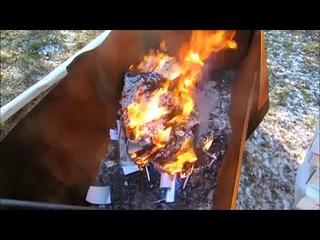Fire: (123, 37, 193, 169)
